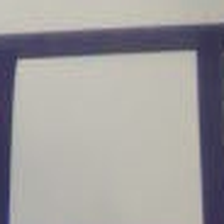empty: (16, 58, 198, 224)
